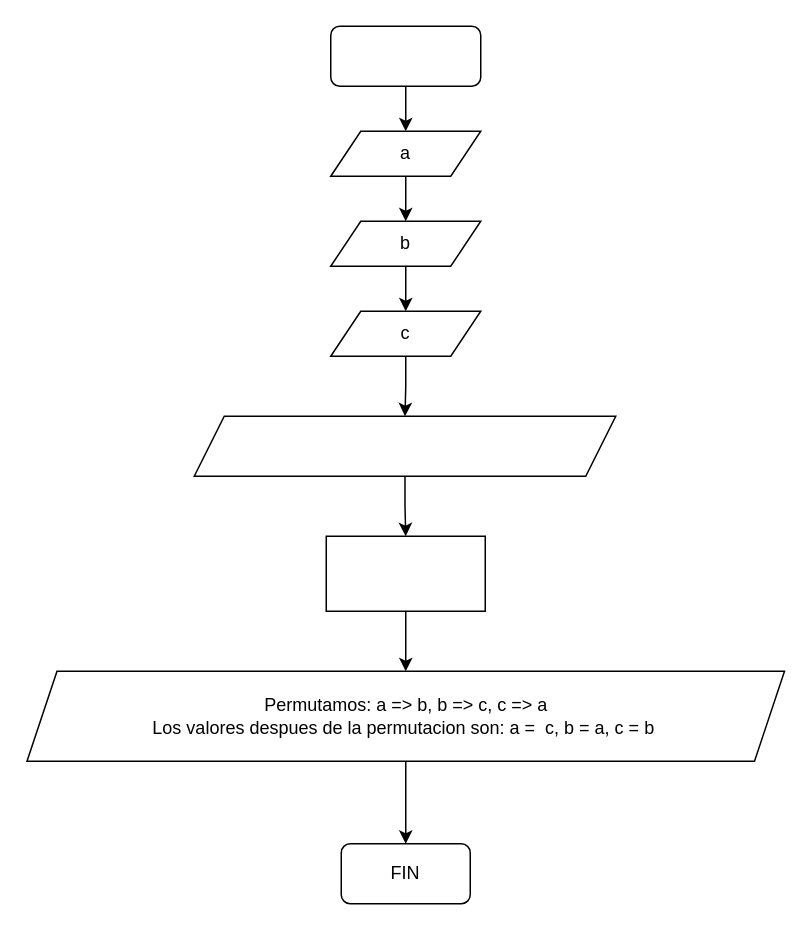
Some shapes in this 810 by 930 pixel diagram are drawn without their labels. Here are the shapes that lost their labels. From the top down, the centre of each, then its label:
At point (405, 55): "INICIO".
At point (404, 445): "Los valores son: a = a , b = b , y c = c".
At point (405, 573): "a=c c=b b=a".
